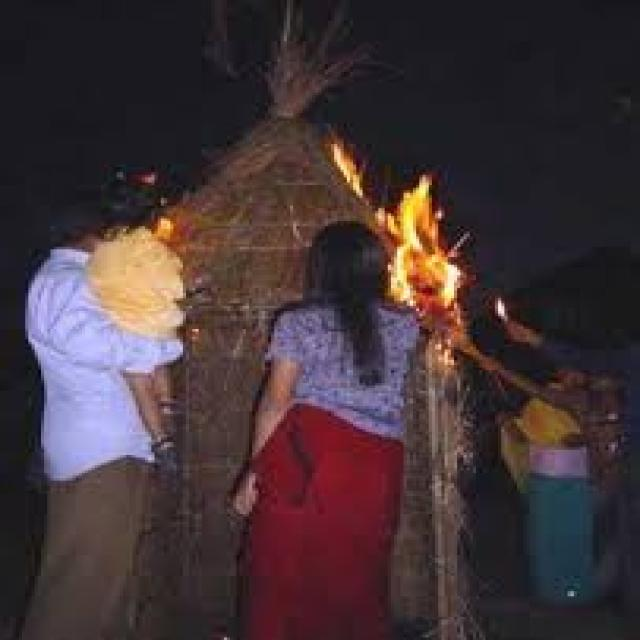fire: (373, 172, 464, 308), (329, 140, 366, 199)
